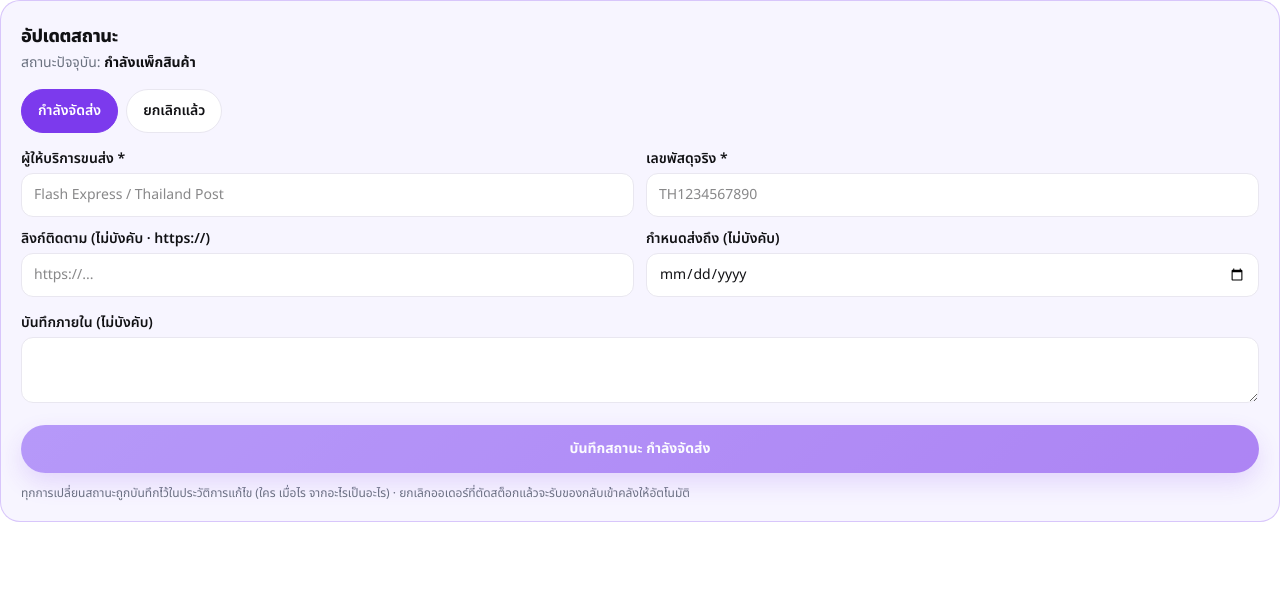
OrderStatusForm — ข้อความที่แอดมินได้อ่าน (STEP 37) › server ปฏิเสธพร้อมรายละเอียดช่องที่ผิด ต้องแสดงรายละเอียดนั้นด้วย
Step 1. Click the button "กำลังจัดส่ง" → click(70, 111), box x1=21 y1=89 x2=118 y2=133
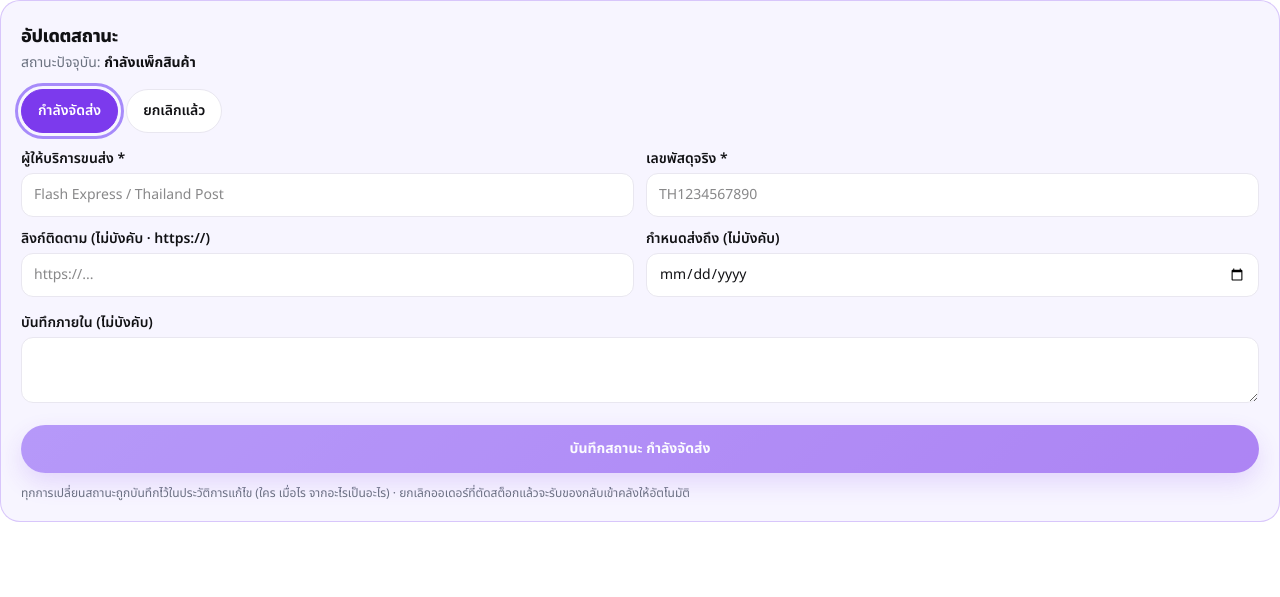
Step 2. Type "Flash Express" into the field labelled "ผู้ให้บริการขนส่ง *" → (328, 195), box x1=21 y1=173 x2=634 y2=217
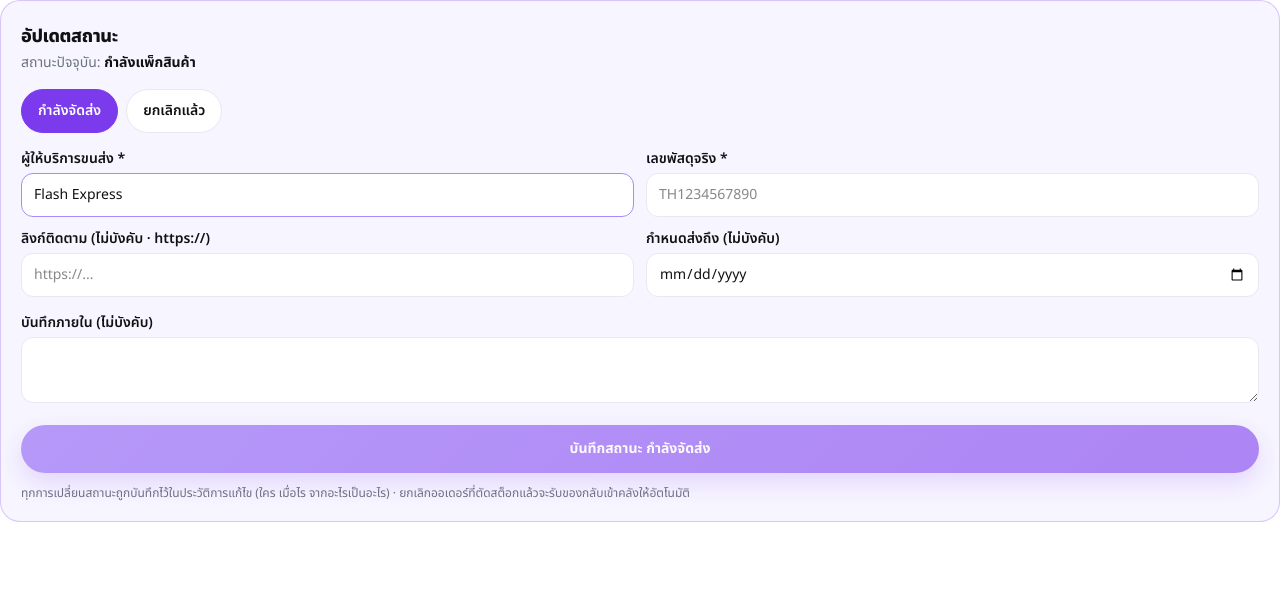
Step 3. Type "TH-123" into the field labelled "เลขพัสดุจริง *" → (952, 195), box x1=646 y1=173 x2=1259 y2=217
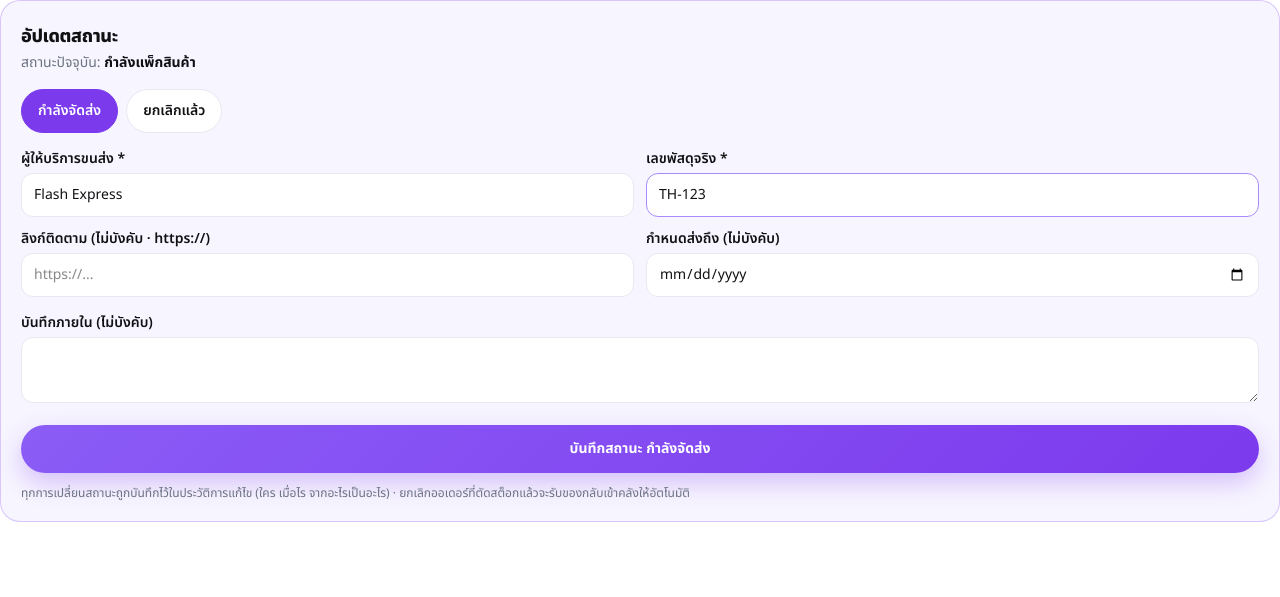
Step 4. Click the button "บันทึกสถานะ กำลังจัดส่ง" → click(640, 449), box x1=21 y1=425 x2=1259 y2=473
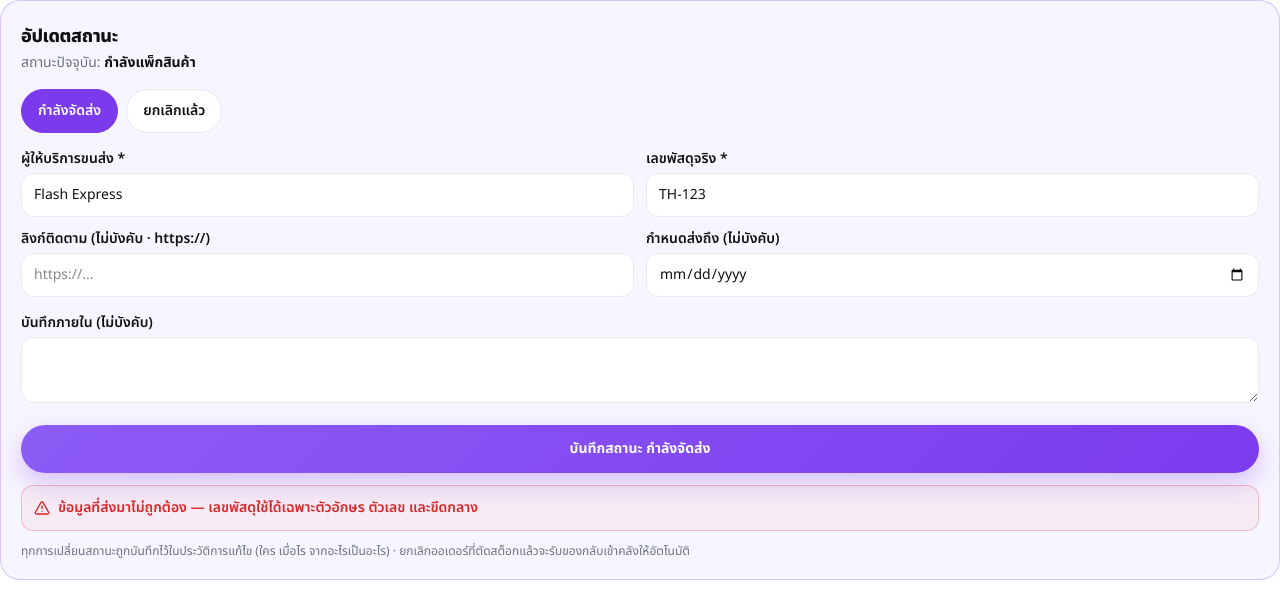
Expected: the message shows "เลขพัสดุใช้ได้เฉพาะตัวอักษร ตัวเลข และขีดกลาง", x1=58 y1=497 x2=478 y2=518
